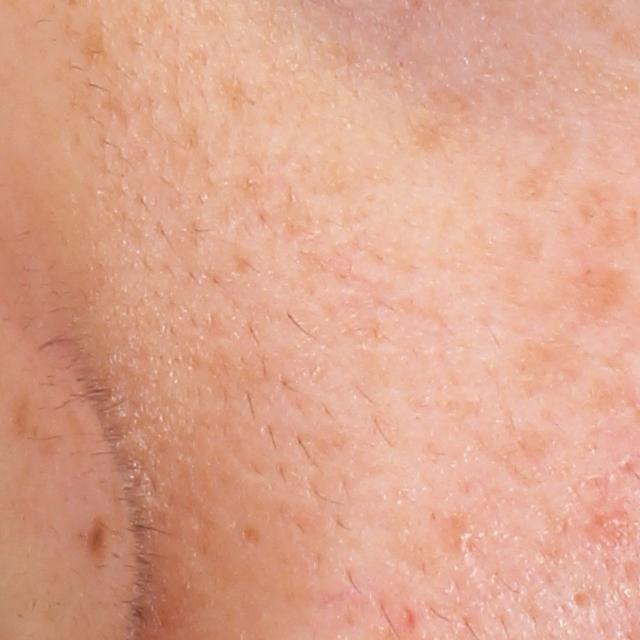comedo: (565, 589, 597, 620), (449, 523, 476, 557)
melasma: (512, 315, 595, 406), (511, 127, 589, 208), (403, 85, 478, 159), (568, 257, 630, 331), (10, 380, 61, 457), (59, 1, 107, 73), (209, 65, 259, 123), (86, 516, 112, 560)
